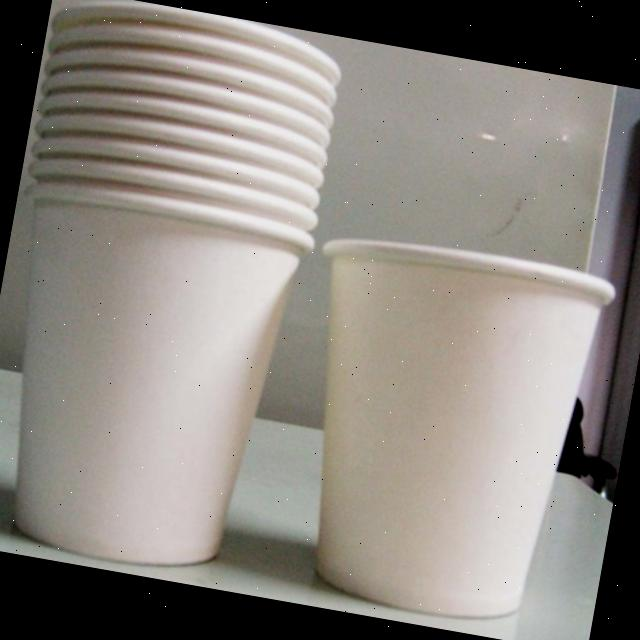trash: (264, 226, 620, 636)
